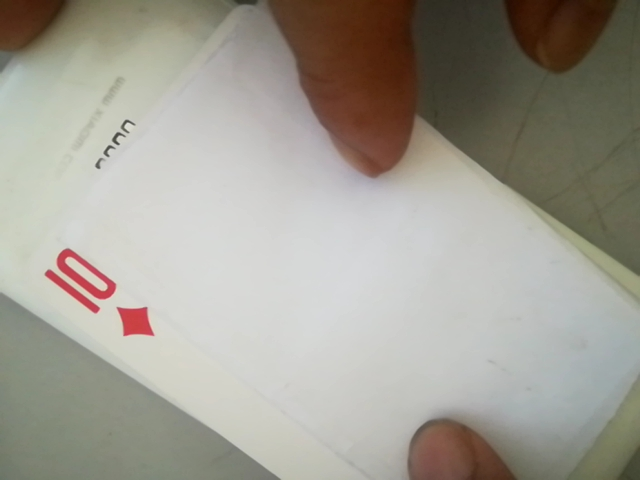fk 10: (33, 243, 159, 345)
